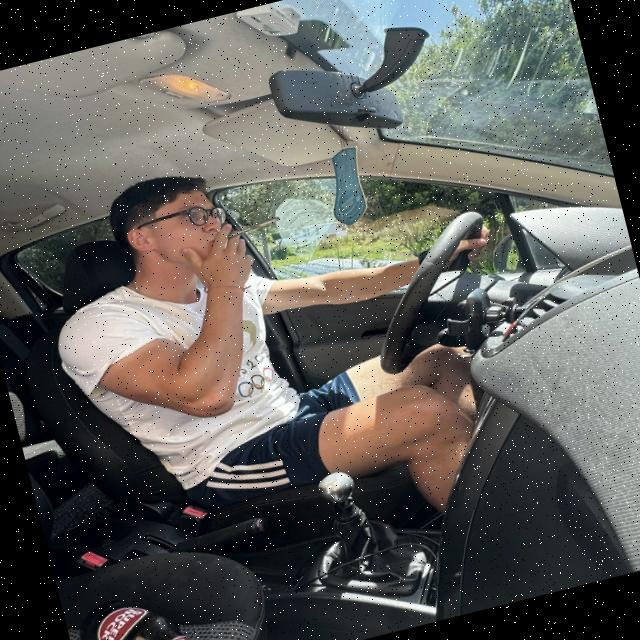Cigarette: (204, 208, 296, 257)
